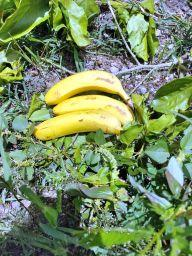banana: (43, 69, 137, 112), (50, 93, 135, 130), (32, 109, 123, 142)
